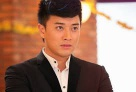male: (36, 2, 86, 56)
